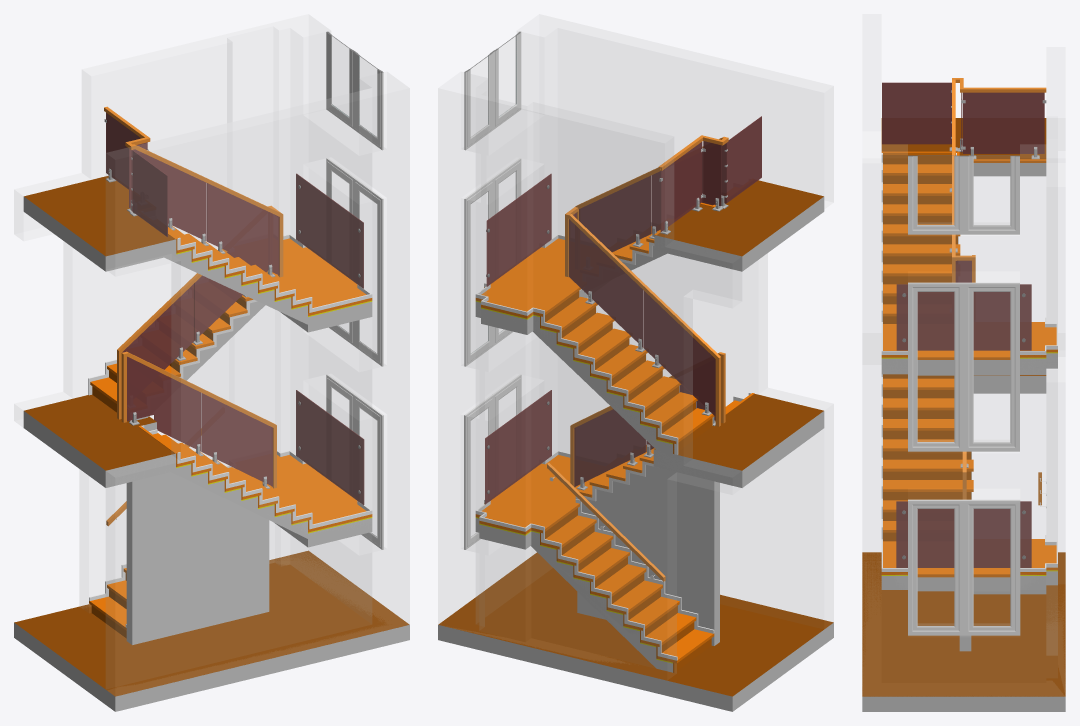
The model's file is 3D Сборка 1.obj.
The picture shows the model from 3 angles, left to right: view 1: azimuth 30°, elevation 25°; view 2: azimuth 150°, elevation 25°; view 3: azimuth 270°, elevation 25°; orthographic projection.
Size of the model in its own units: 4.42 by 7.92 by 2.63.
